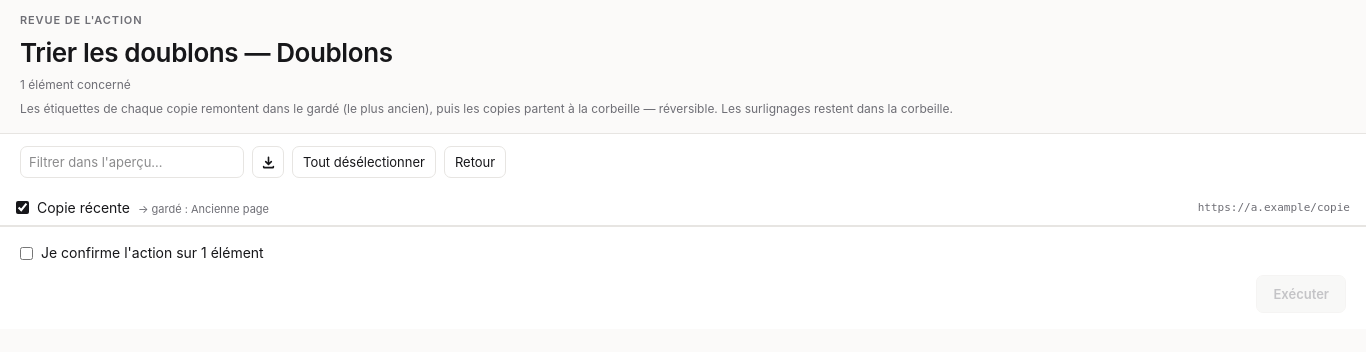
ReviewPage — le retour visible › le retour est verrouillé pendant que le job dedupe court
This screenshot has width=1366, height=352.
Click the checkbox labelled "Je confirme l'action sur 1 élément": [26, 253] box [20,246,33,260]
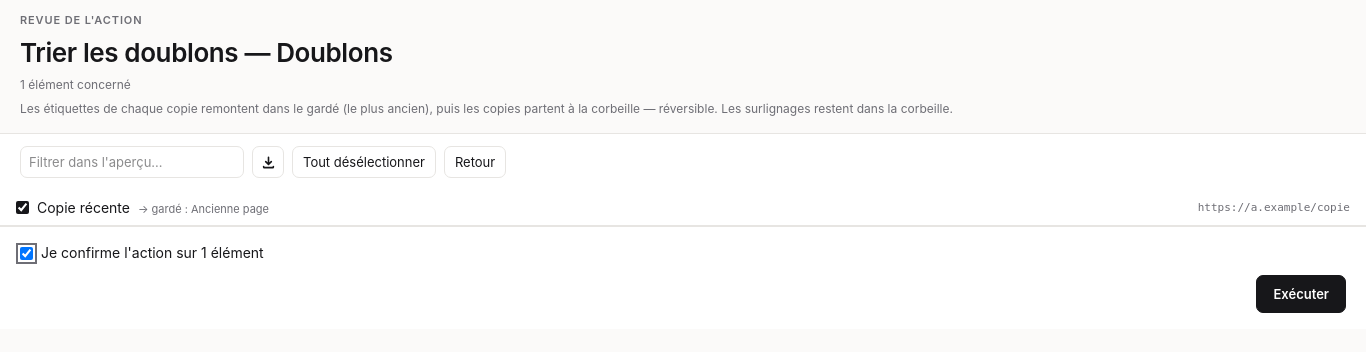
Click the button "Exécuter": [1301, 294] box [1256,275,1346,313]
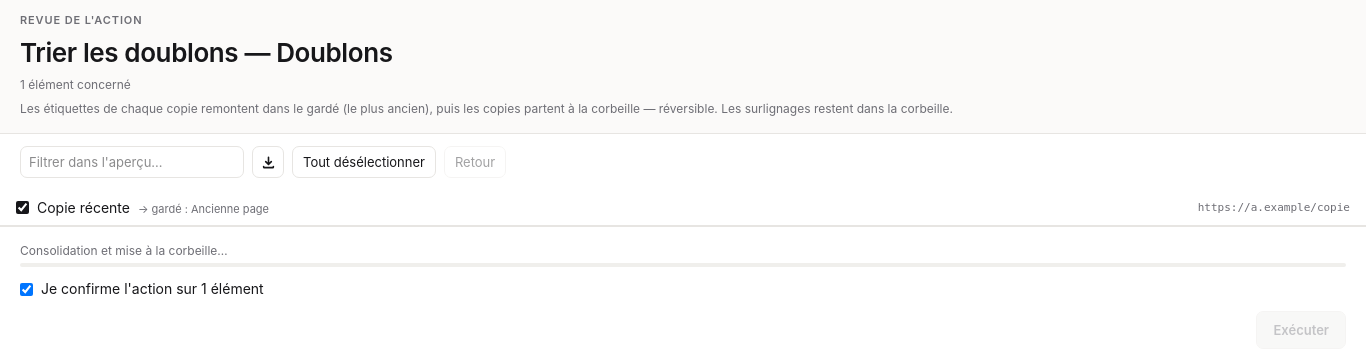
Check: the button "Retour" is disabled, box [444,146,506,178]
